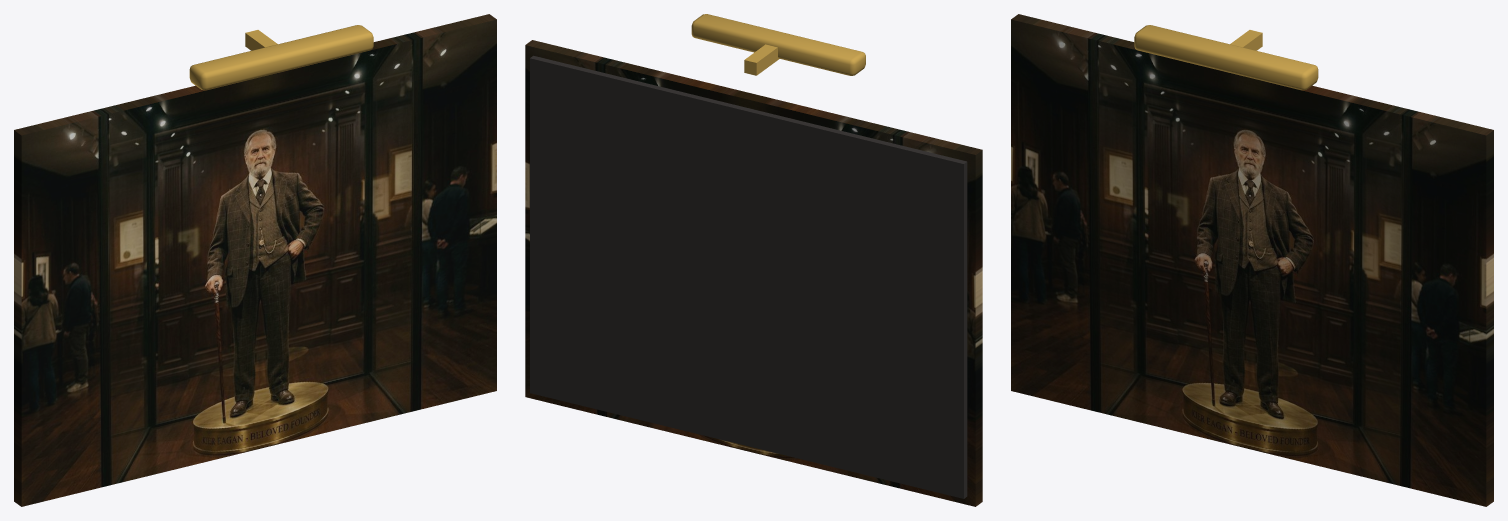
The model's file is painting_kier.gltf.
3 renders of one model, left to right at view 1: azimuth 30°, elevation 25°; view 2: azimuth 150°, elevation 25°; view 3: azimuth 330°, elevation 25°, orthographic. The views are drawn at different scales.
Visible parts, largest first — view 1: CANVAS, painting_kier_mesh; view 2: painting_kier_mesh, CANVAS; view 3: CANVAS, painting_kier_mesh.
Boxes of the visible parts, x1=… form: CANVAS: x1=14, y1=14, x2=496, y2=506; painting_kier_mesh: x1=189, y1=25, x2=373, y2=90; painting_kier_mesh: x1=530, y1=14, x2=967, y2=498; CANVAS: x1=525, y1=40, x2=982, y2=506; CANVAS: x1=1011, y1=14, x2=1493, y2=506; painting_kier_mesh: x1=1134, y1=25, x2=1318, y2=90.
Size of the model in its own units: 1.1 by 0.9213 by 0.165.
3 materials, 1 textured.
